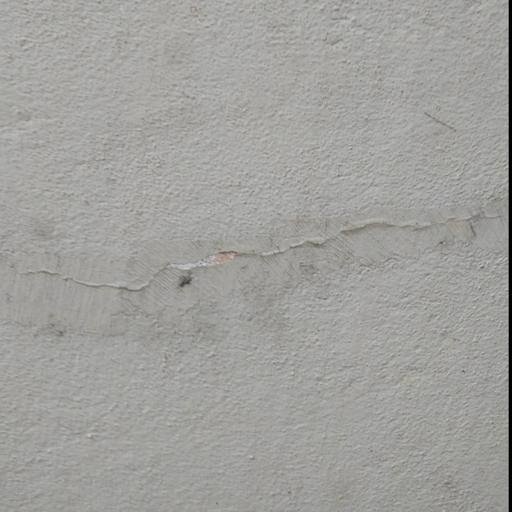minor_crack: (17, 203, 512, 319)
